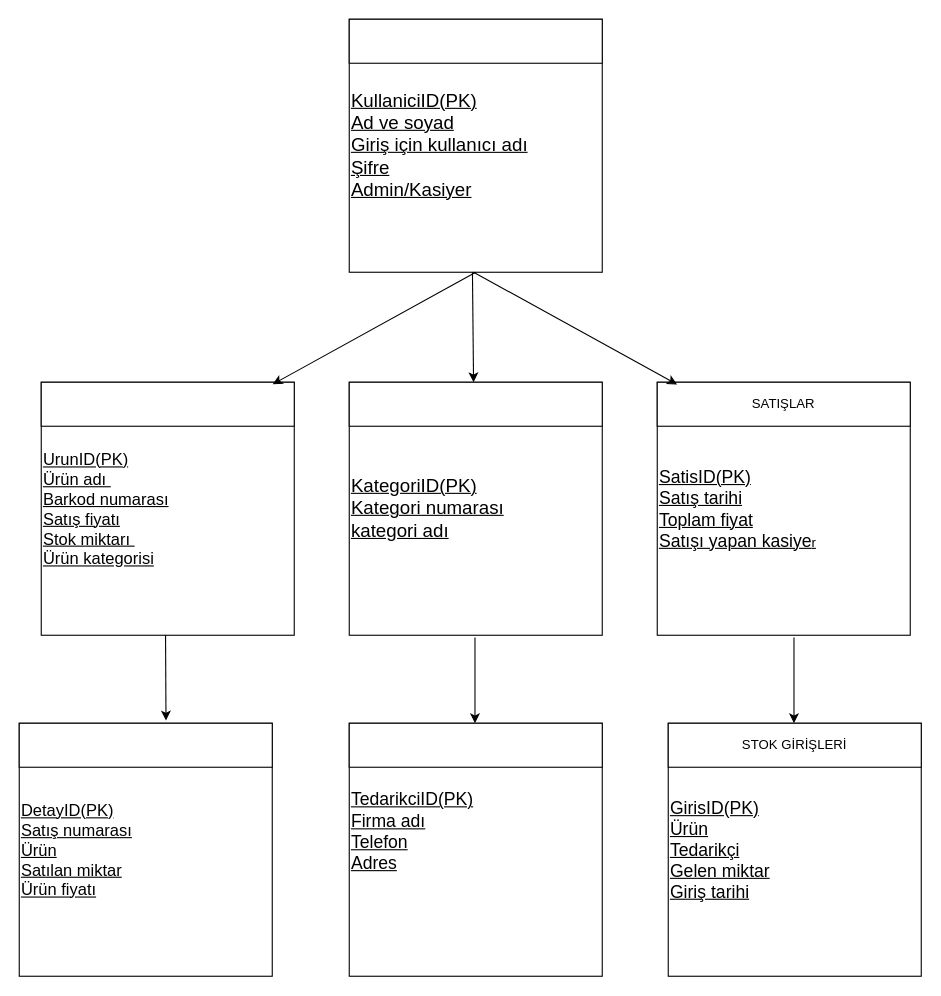
The diagram is 941 pixels wide and 996 high, and some of its shapes have lost their labels. Here are the shapes that lost their labels. From the top down, the centre of each, then its label:
the point at 475,40: KULLANICILAR
the point at 167,403: ÜRÜNLER
the point at 475,403: KAREGORİLER
the point at 145,744: SATIŞ DETAYLARI
the point at 475,744: TEDARİKÇİLER
